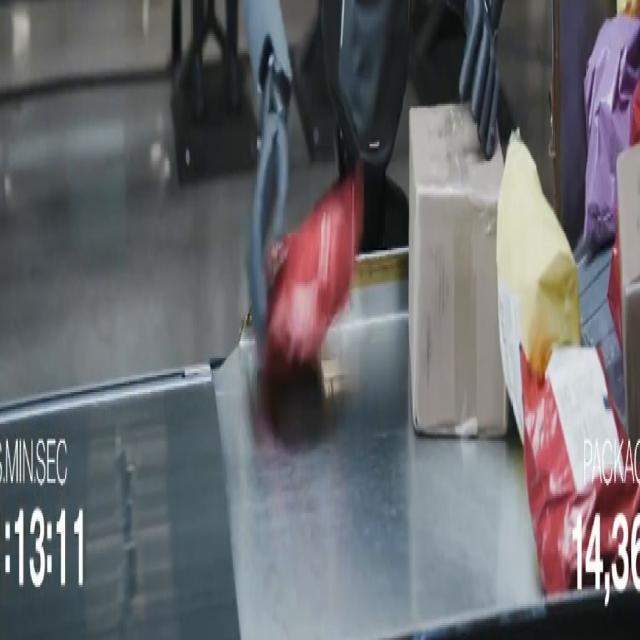package: (409, 104, 506, 436), (521, 348, 639, 595), (497, 132, 580, 438), (263, 164, 363, 377), (584, 15, 639, 247), (614, 147, 639, 445), (623, 280, 639, 445), (608, 206, 622, 345), (608, 212, 622, 345), (630, 83, 639, 146), (617, 0, 639, 16)
